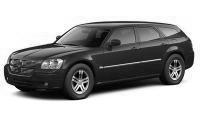car: (3, 21, 194, 101)
